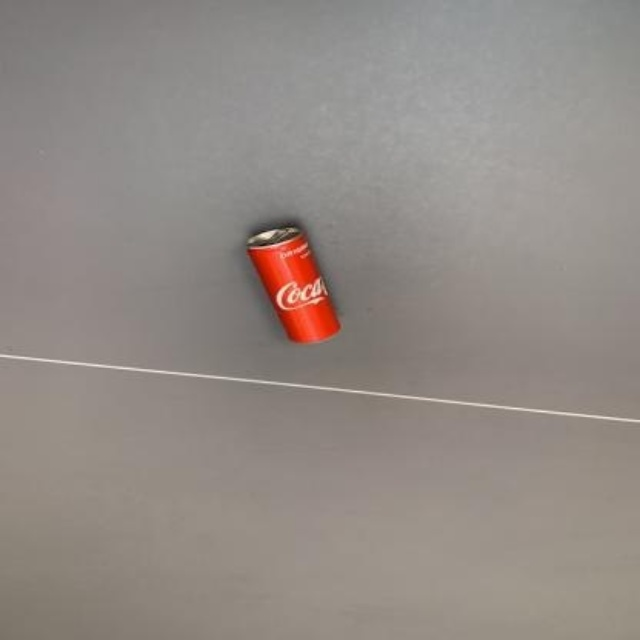trash: (246, 223, 338, 342)
